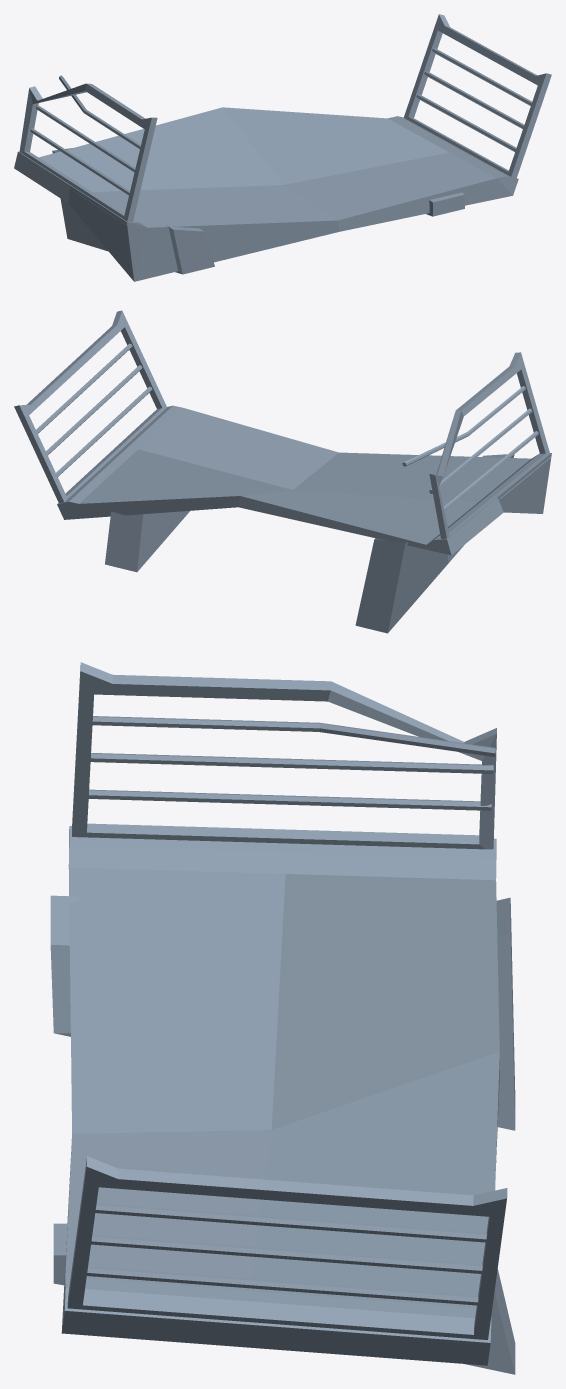
The model's file is Cube_121_geometry-panic-factory_003.fbx.
The picture shows the model from 3 angles, top to bottom: view 1: azimuth 30°, elevation 25°; view 2: azimuth 150°, elevation 25°; view 3: azimuth 270°, elevation 25°; orthographic projection. The views are drawn at different scales.
Visible parts, largest first — view 1: Cube.121.geometry-panic-factory.003; view 2: Cube.121.geometry-panic-factory.003; view 3: Cube.121.geometry-panic-factory.003.
Boxes of the visible parts, x1=… form: Cube.121.geometry-panic-factory.003: x1=14, y1=14, x2=551, y2=281; Cube.121.geometry-panic-factory.003: x1=14, y1=310, x2=551, y2=633; Cube.121.geometry-panic-factory.003: x1=50, y1=662, x2=515, y2=1374.
Bounding box in the file's own units: 2.35 × 1.07 × 1.09.
